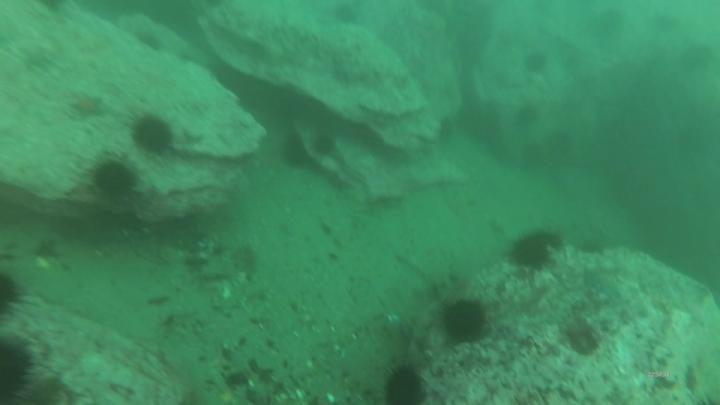echinus: (388, 367, 424, 405), (446, 304, 482, 341), (93, 165, 131, 197), (513, 236, 548, 267), (134, 118, 169, 149), (283, 137, 307, 164), (528, 51, 548, 72), (520, 106, 537, 127), (316, 136, 336, 151)
starfish: (75, 93, 106, 121)
